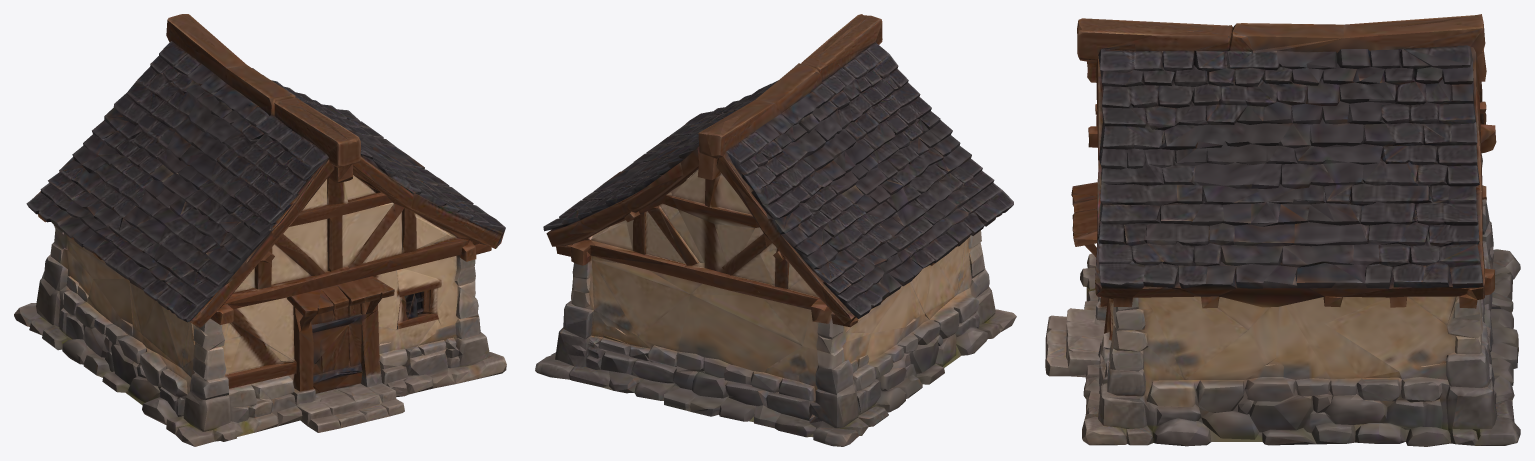
Rendered from house.glb.
3 views of the same model, side by side, from view 1: azimuth 30°, elevation 25°; view 2: azimuth 150°, elevation 25°; view 3: azimuth 270°, elevation 25° (orthographic). The views are drawn at different scales.
Bounding box in the file's own units: 1.79 × 1.46 × 1.9.
Materials: 1 (1 with a texture image).
